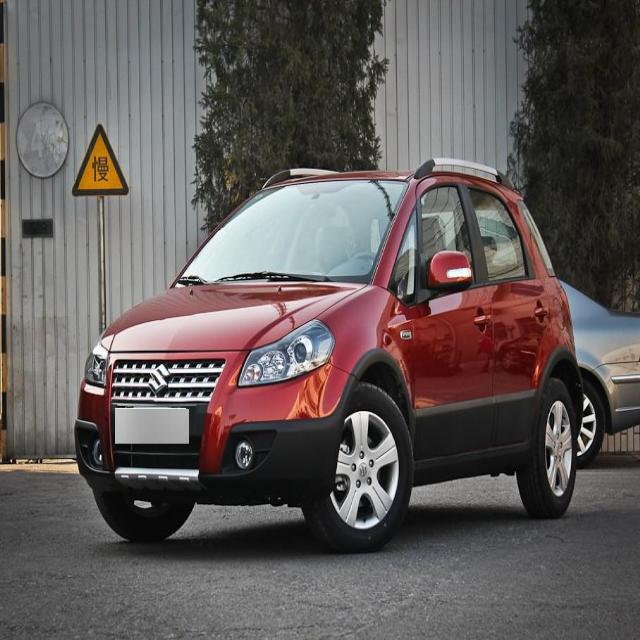door: (464, 180, 542, 442)
front_bumper: (72, 360, 337, 500)
front_glass: (177, 174, 413, 285)
front_left_side_door: (409, 171, 498, 467)
front_left_side_light: (237, 314, 336, 391), (82, 336, 113, 388)
front_left_side_mirror: (424, 248, 473, 298)
wheel: (309, 379, 411, 543), (520, 386, 580, 516), (93, 491, 195, 549)
